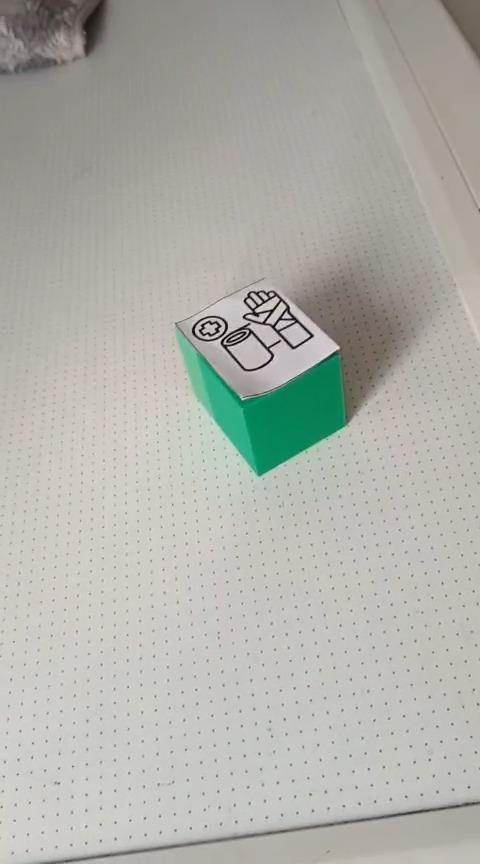Bandages: (175, 275, 349, 475)
